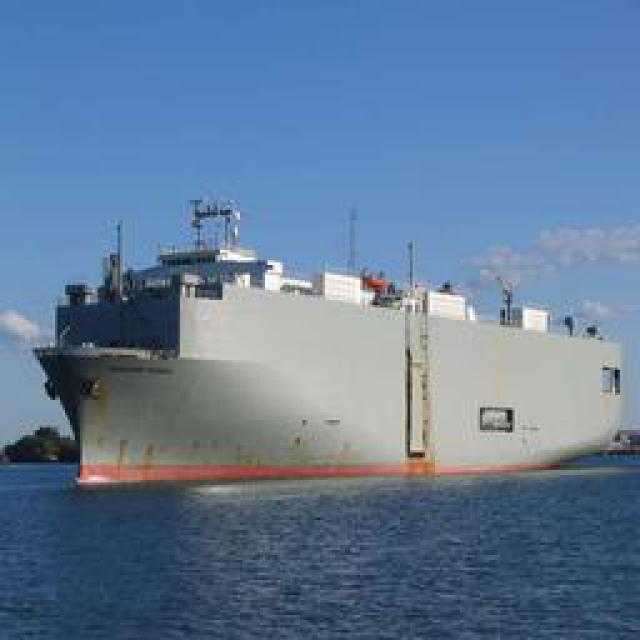Ship: (51, 229, 629, 479)
